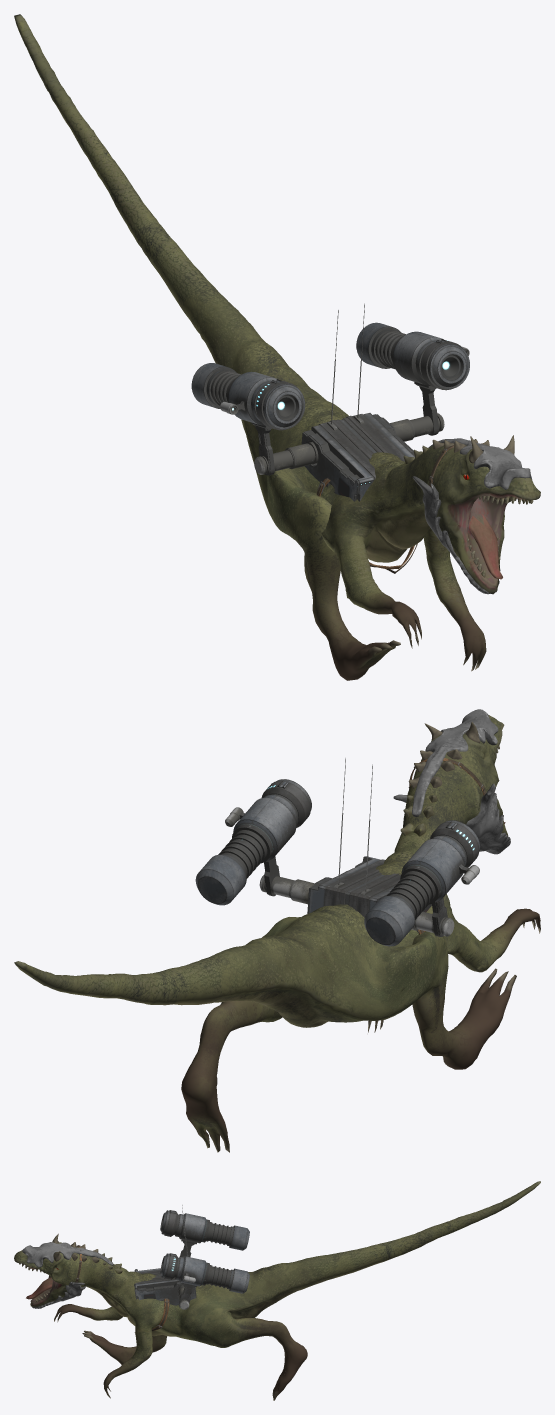
The model's file is war_dinosaur_-_rigged.glb.
3 renders of one model, top to bottom at view 1: azimuth 30°, elevation 25°; view 2: azimuth 150°, elevation 25°; view 3: azimuth 270°, elevation 25°, orthographic. The views are drawn at different scales.
Visible parts, largest first — view 1: low.004, Cube.005, Cube.003, KafaUSt_Low.001, CeneAlt_Low.001; view 2: low.004, Cube.005, Cube.003, KafaUSt_Low.001, CeneAlt_Low.001; view 3: low.004, Cube.005, Cube.003, KafaUSt_Low.001, CeneAlt_Low.001.
Part boxes in pixels (x1=…): low.004: x1=14, y1=14, x2=540, y2=680; Cube.005: x1=191, y1=322, x2=469, y2=475; Cube.003: x1=254, y1=303, x2=444, y2=501; KafaUSt_Low.001: x1=428, y1=438, x2=532, y2=489; CeneAlt_Low.001: x1=412, y1=476, x2=500, y2=594; low.004: x1=14, y1=715, x2=540, y2=1152; Cube.005: x1=195, y1=779, x2=480, y2=946; Cube.003: x1=259, y1=758, x2=454, y2=936; KafaUSt_Low.001: x1=412, y1=709, x2=498, y2=816; CeneAlt_Low.001: x1=393, y1=783, x2=510, y2=854; low.004: x1=14, y1=1181, x2=540, y2=1400; Cube.005: x1=160, y1=1210, x2=249, y2=1306; Cube.003: x1=134, y1=1205, x2=196, y2=1309; KafaUSt_Low.001: x1=22, y1=1242, x2=113, y2=1267; CeneAlt_Low.001: x1=32, y1=1281, x2=86, y2=1308.
Size of the model in its own units: 2.85 by 4.31 by 10.08.
4 materials, 4 textured.
